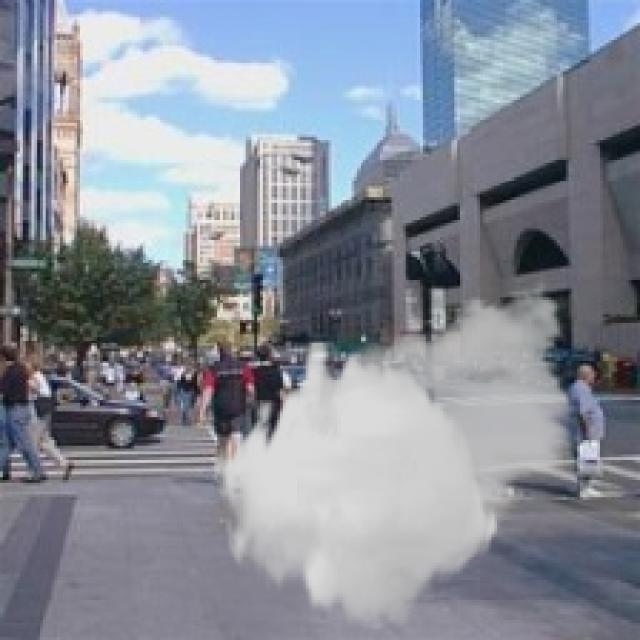Smoke: (211, 274, 586, 629)
